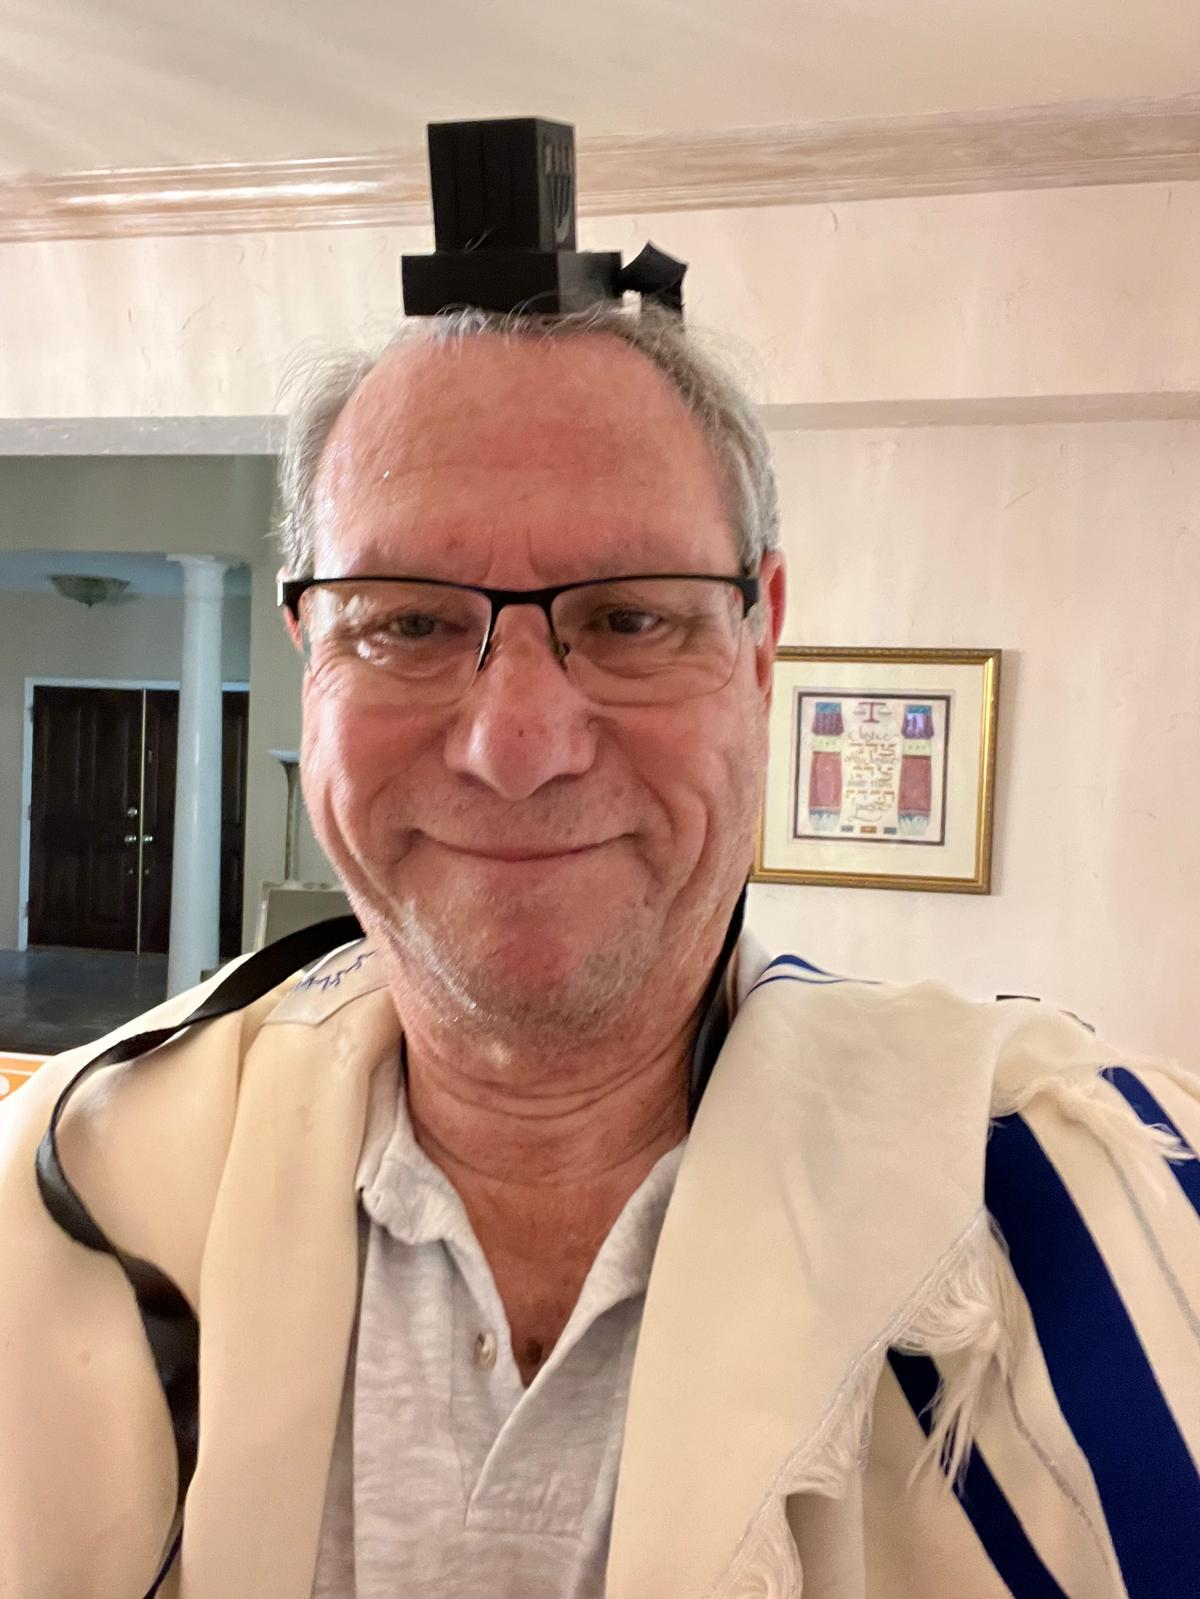tefillin: (397, 116, 627, 324)
